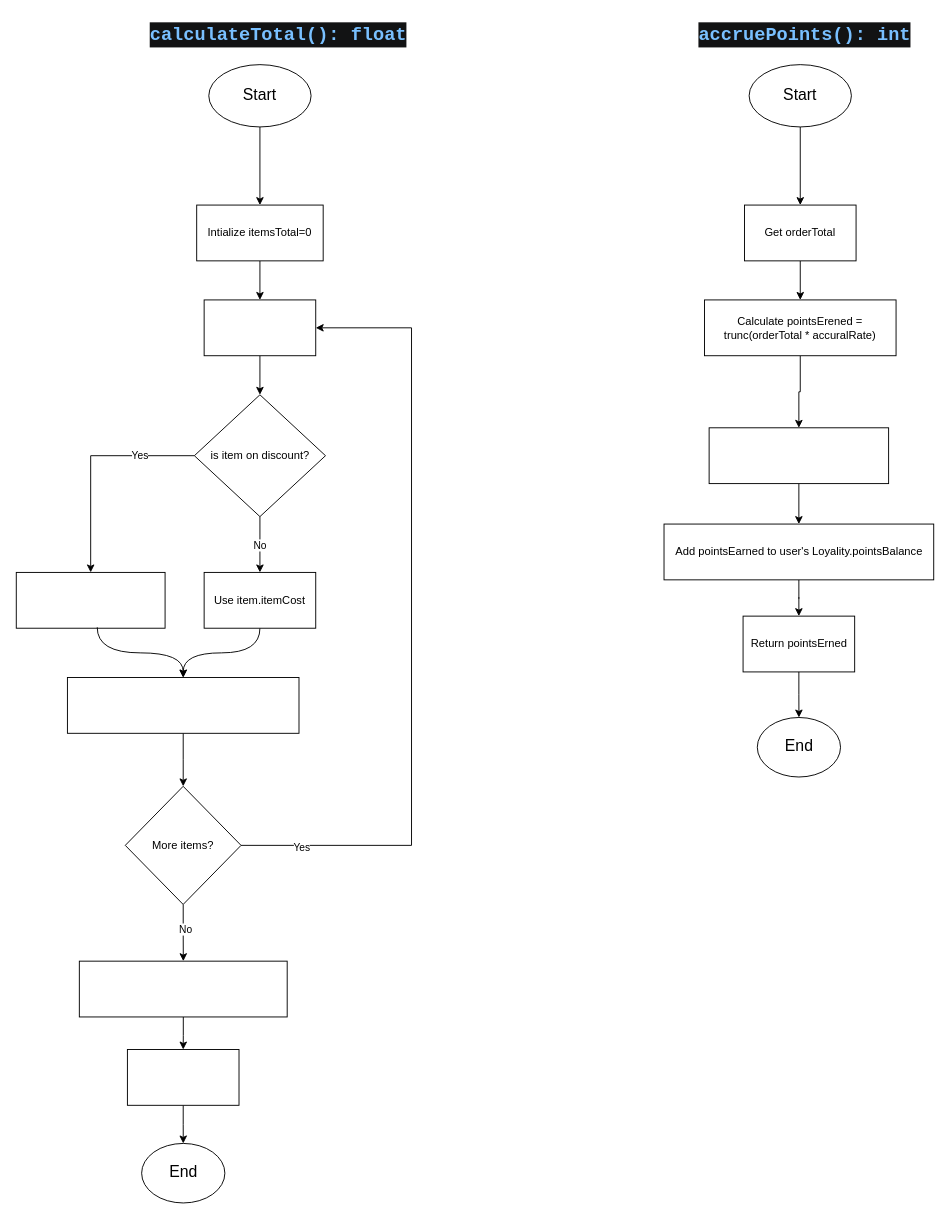
Some shapes in this 950 by 1219 pixel diagram are drawn without their labels. The box of each missing label's shape, as (x1, y1, x2, y2) in pixels:
Add (price * item.itemQuantity) to itemsTotal: (66, 677, 299, 733)
Call item.getDiscountedPrice(): (15, 571, 165, 628)
loop through each item in items array: (203, 299, 316, 356)
orederTotal = itemsTotal + deliveryFee: (78, 960, 287, 1017)
Return orderTotal: (126, 1049, 239, 1105)
Set pointsEarned on Order: (708, 427, 889, 484)
